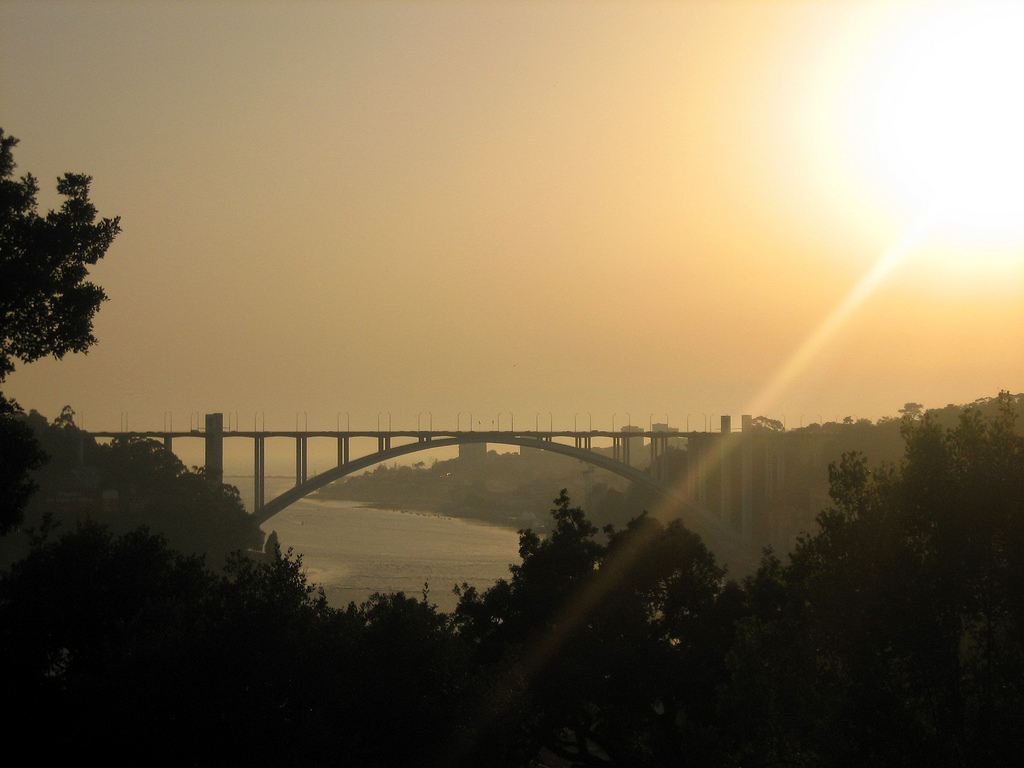arrabida: (84, 410, 848, 574)
